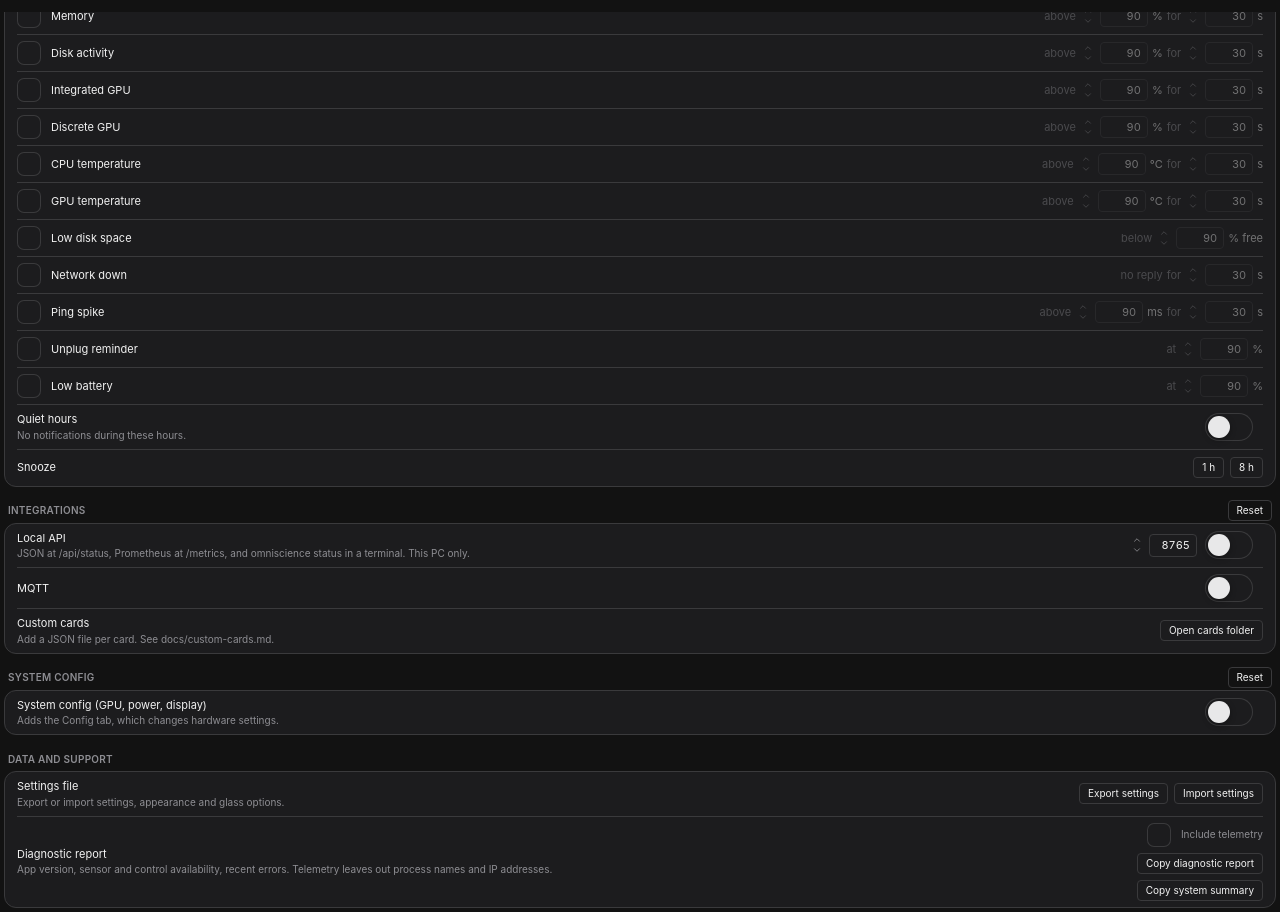
Test: SettingsView › reports a backend failure without touching the clipboard
(page scrolled)
What coordinates should you click on to do the following:
click the button "Copy diagnostic report"
I would click on:
 (1200, 863)
Its box is left=1137, top=852, right=1263, bottom=874.
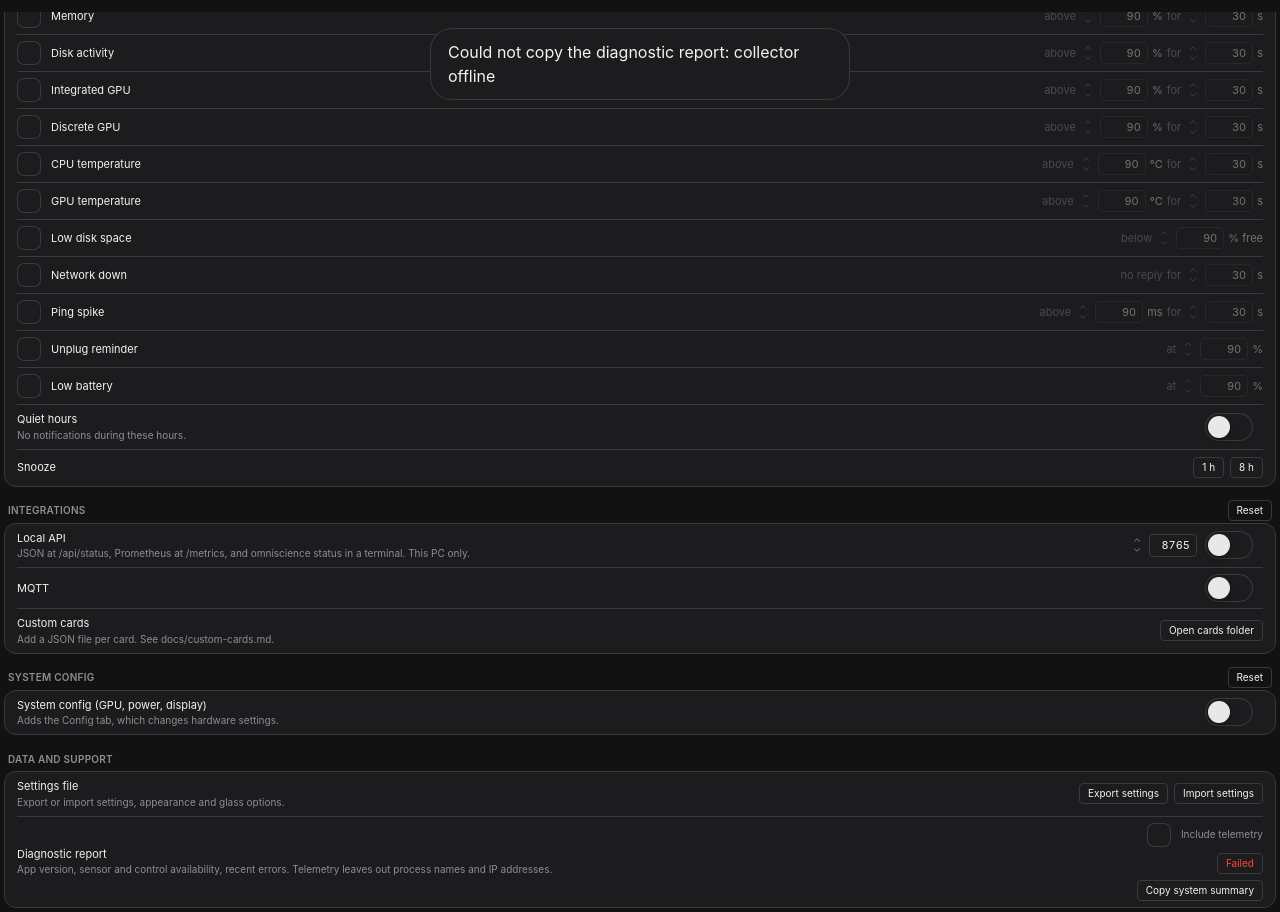
Now the text "Could not copy the diagnostic report: collector offline" is shown, box left=448, top=40, right=832, bottom=88
